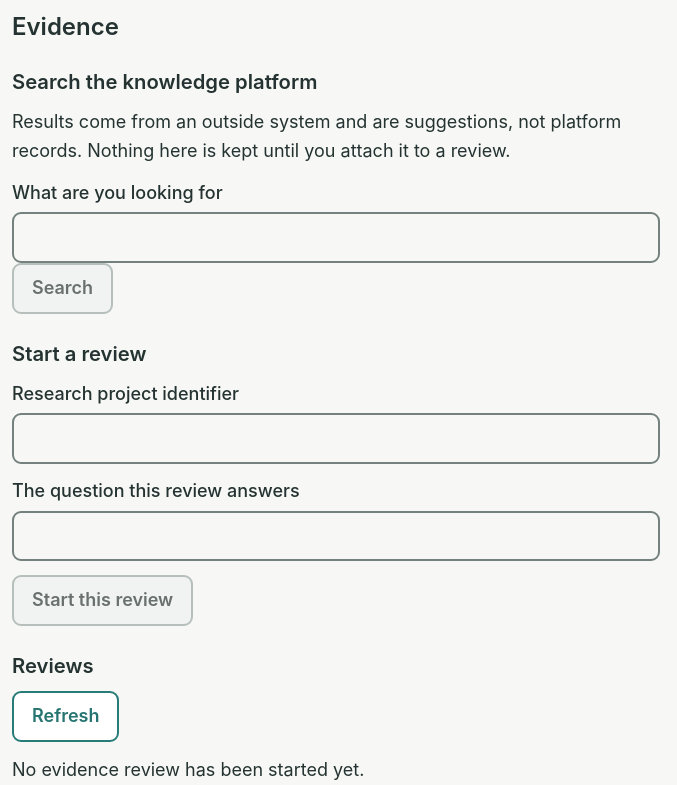
Test: building an evidence review › a failure to reach the knowledge platform is not shown as "no evidence"
The width and height of the screenshot is (677, 785).
Type "loneliness" into the field labelled "What are you looking for" at x=336, y=238, box top-left (12, 212), bottom-right (660, 263)
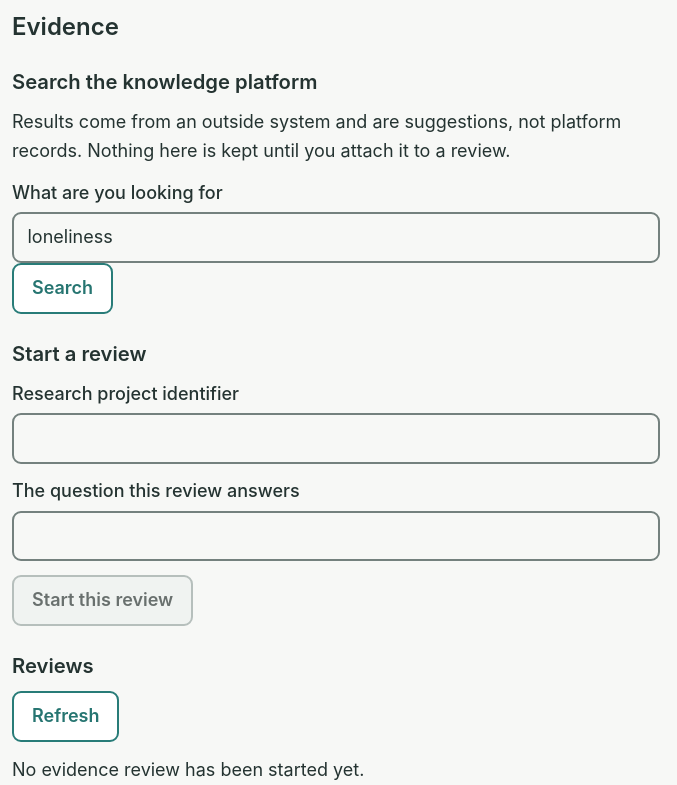
Click the button "Search" at x=63, y=288, box top-left (12, 263), bottom-right (113, 314)
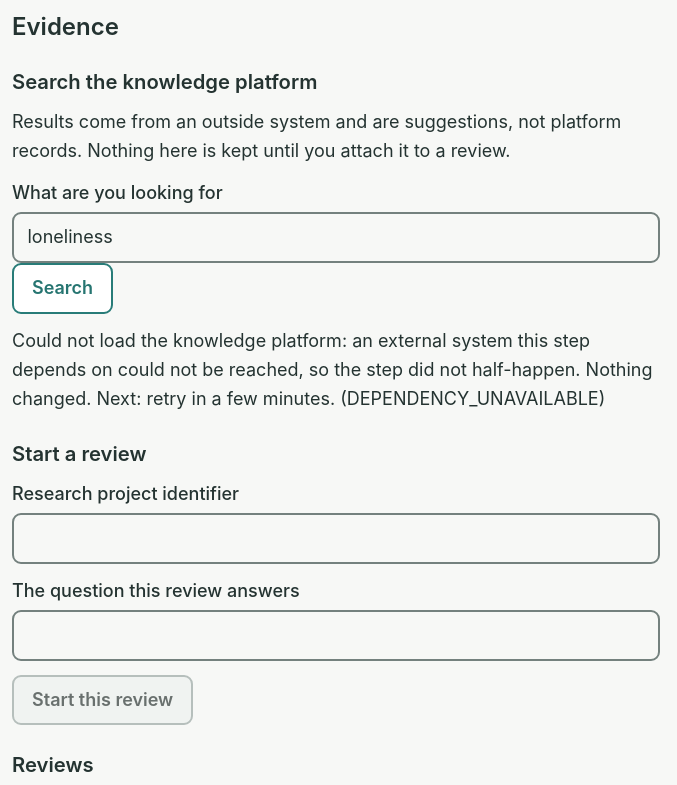
Result: the message is shown at top-left (12, 327), bottom-right (660, 414)
